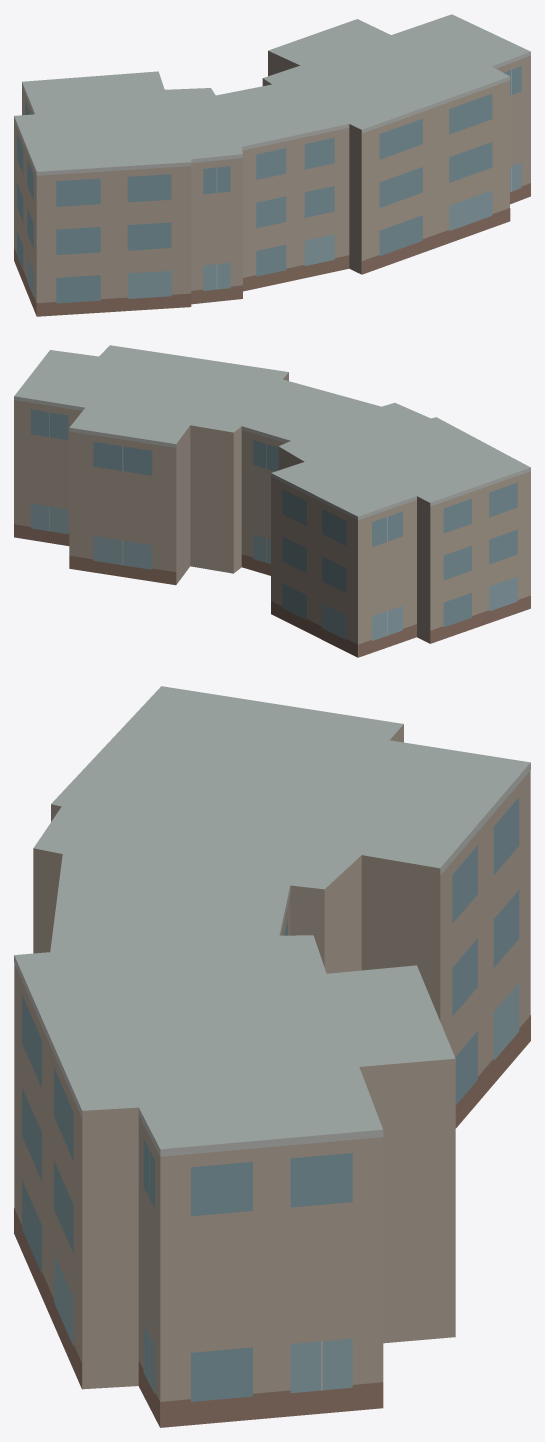
File: survey-upis-32624759.glb
3 renders of one model, top to bottom at view 1: azimuth 30°, elevation 25°; view 2: azimuth 150°, elevation 25°; view 3: azimuth 270°, elevation 25°, orthographic. The views are drawn at different scales.
Parts seen in each view (by area): view 1: survey-upis-32624759.tmp; view 2: survey-upis-32624759.tmp; view 3: survey-upis-32624759.tmp.
Part boxes in pixels (x1,y1,x2,y2): survey-upis-32624759.tmp: (14, 14, 530, 316); survey-upis-32624759.tmp: (14, 345, 530, 657); survey-upis-32624759.tmp: (14, 686, 530, 1427).
Bounding box in the file's own units: 32.66 × 9.15 × 15.4.
